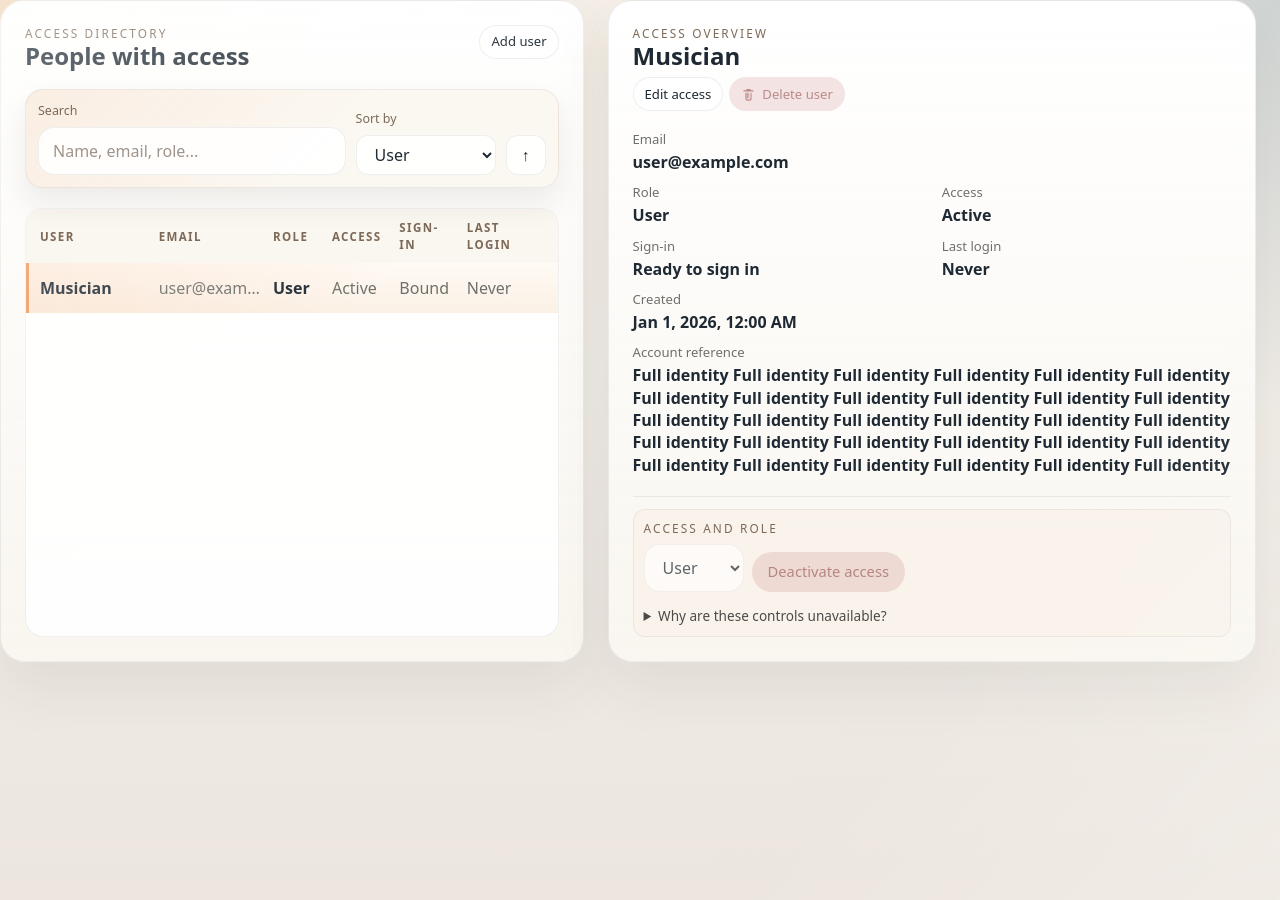
Test: compact record overviews › shows Admin access facts and complete identity metadata without weakening deletion rules
Expected: the element with class "overview-facts" is shown, [633,131,1231,476]
Expected: the button "Delete user" is disabled, [729,77,845,111]
Step 1. Click the heading "Why are these controls unavailable?" → (772, 615), box [658,606,887,625]
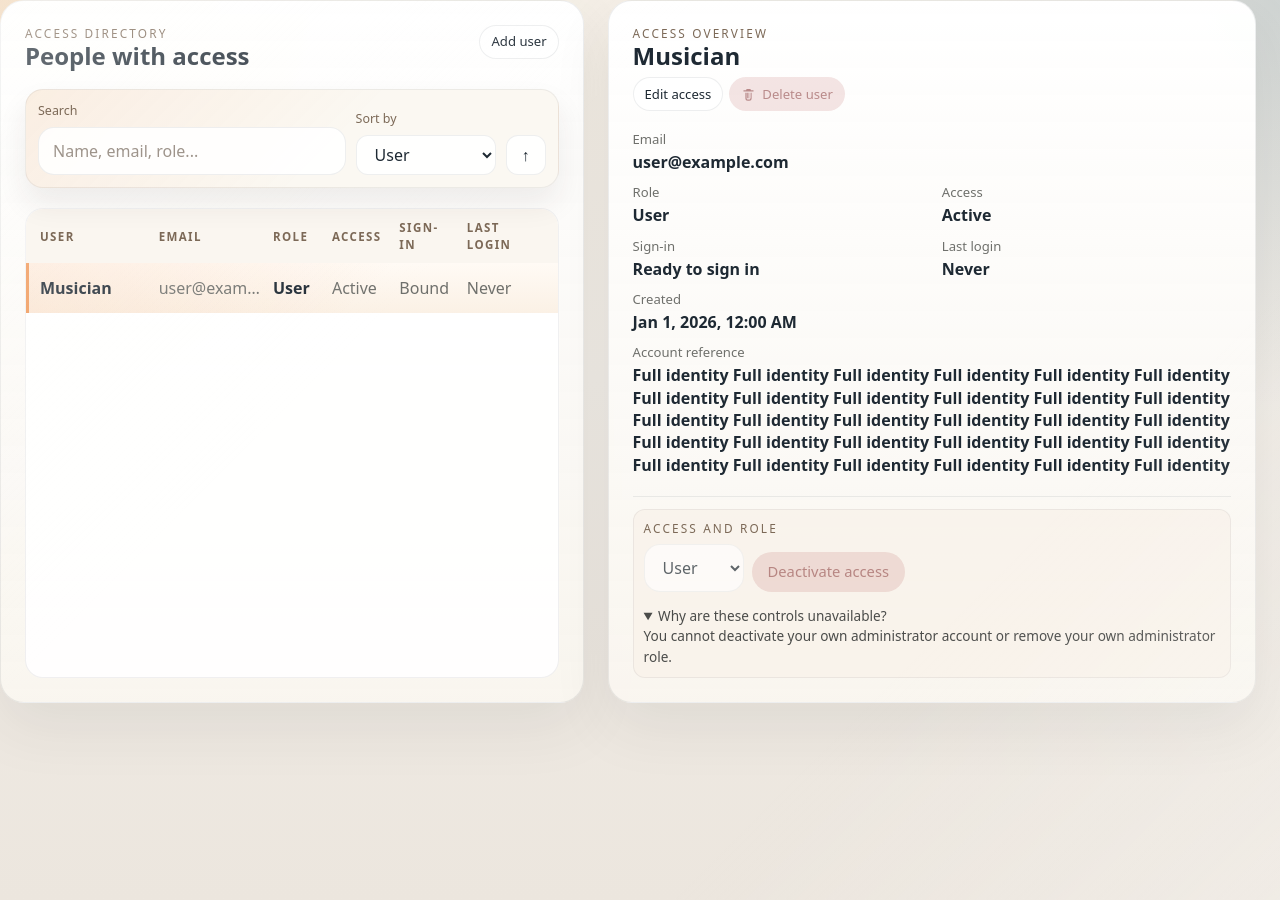
Expected: the text "You cannot deactivate your own administrator account or remove your own administrator role." is shown 2 times
